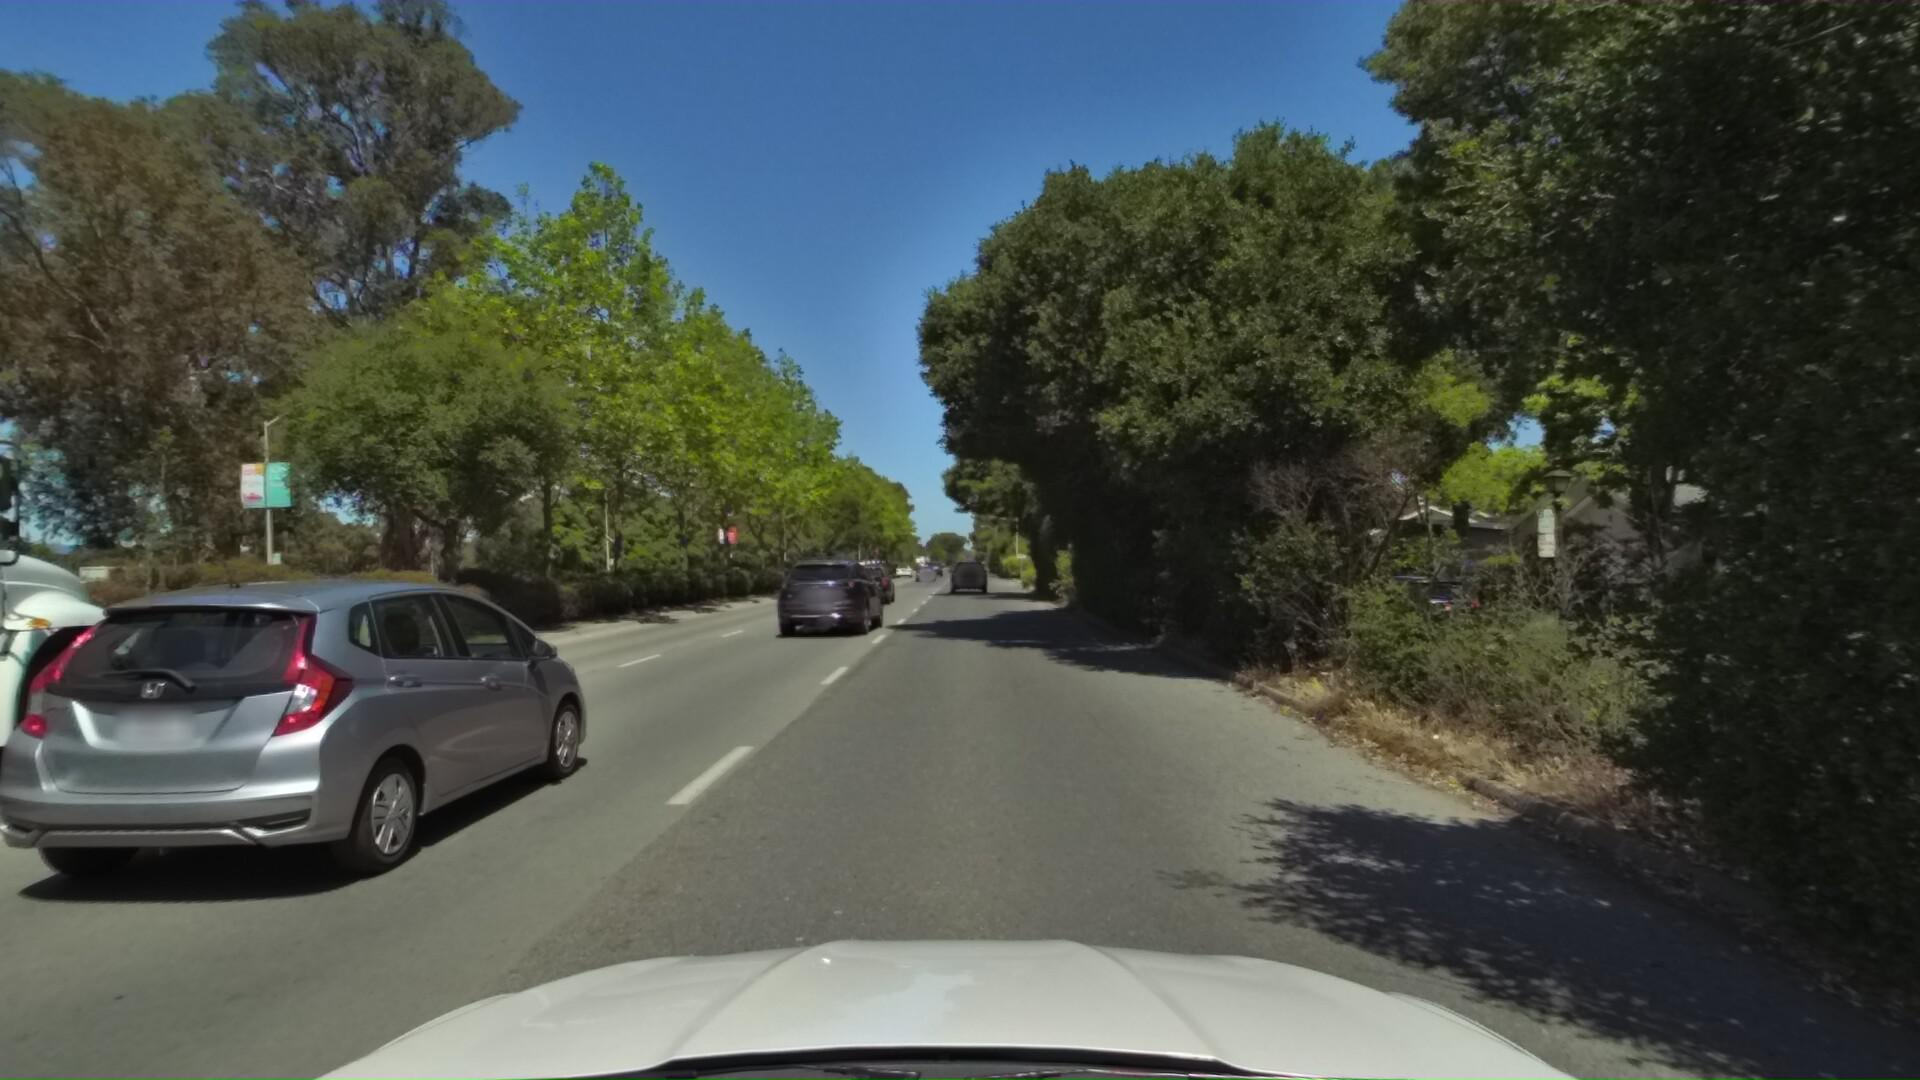car: (0, 572, 617, 949), (1331, 568, 1505, 659), (766, 546, 894, 640), (835, 556, 899, 608), (945, 556, 989, 593)
